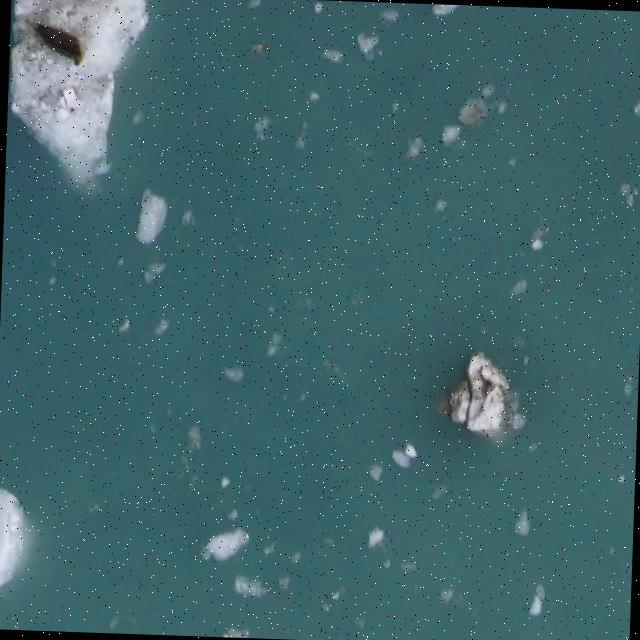seal: (15, 12, 91, 67)
